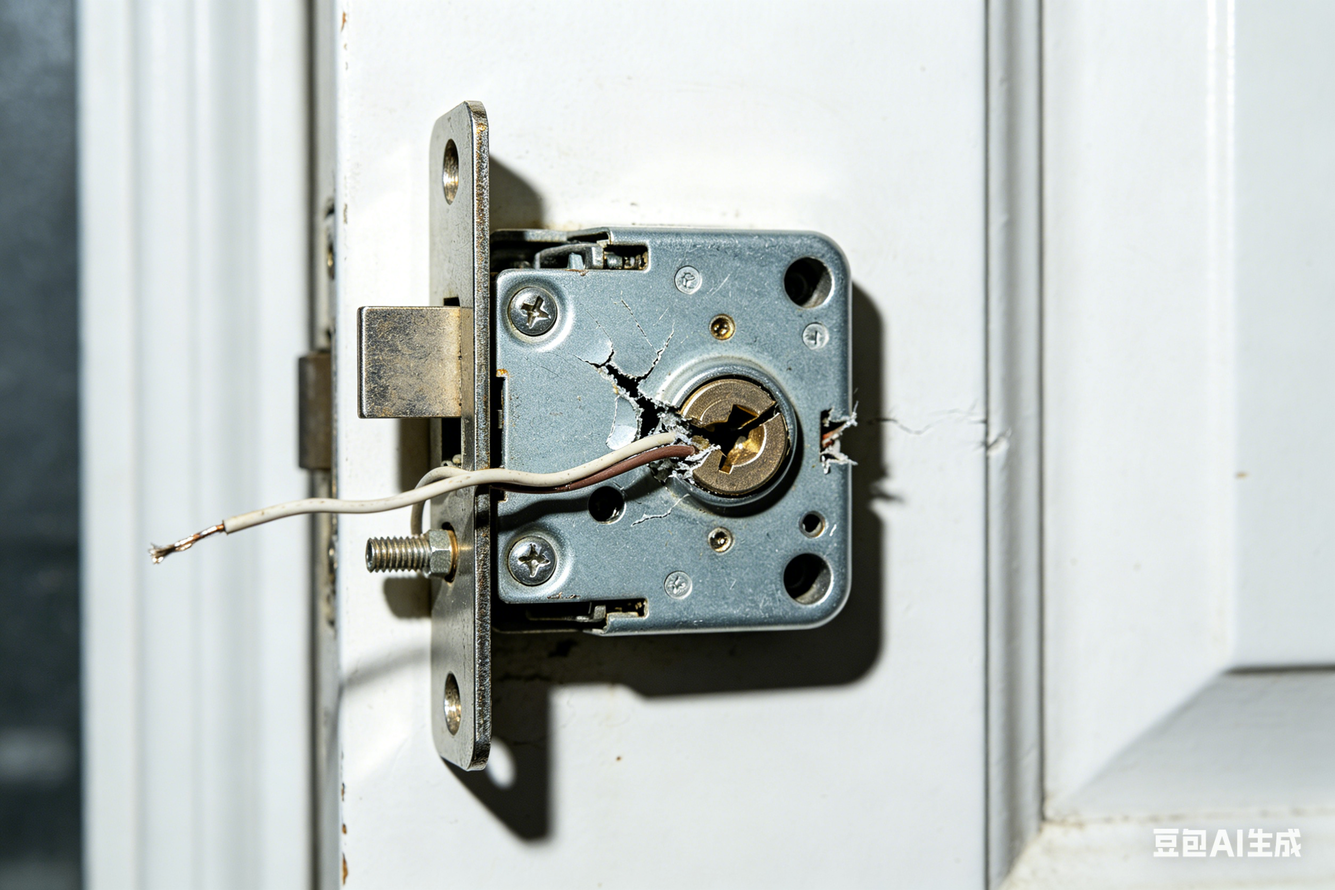BadLock: (600, 321, 857, 547)
